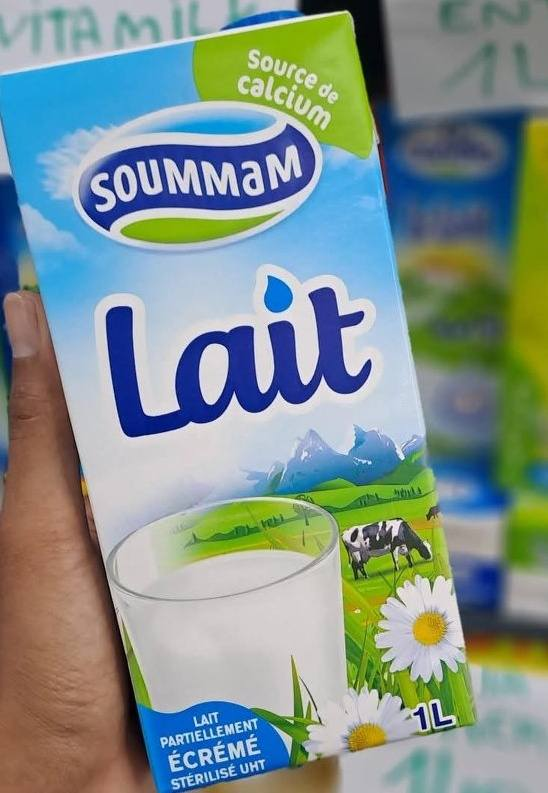soummam_milk: (3, 7, 492, 793)
